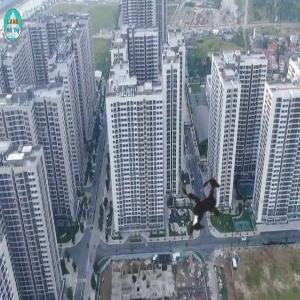drone: (145, 152, 257, 264)
